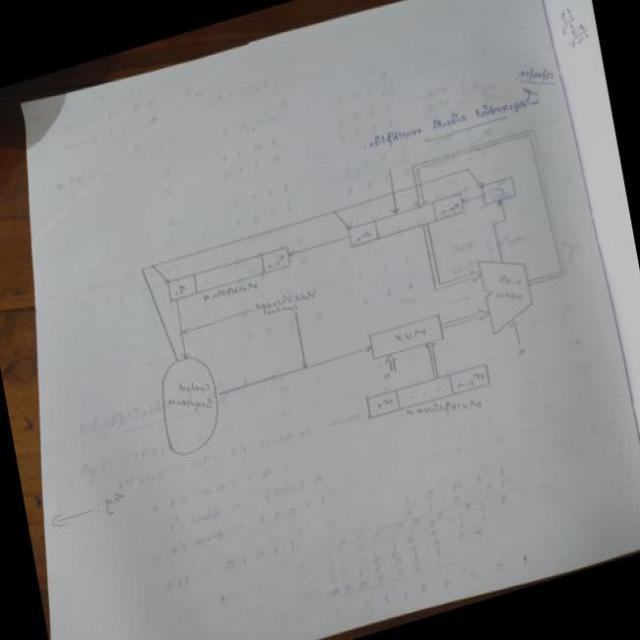Figure Detection - v3 Dataset Version2: (113, 105, 600, 509)
